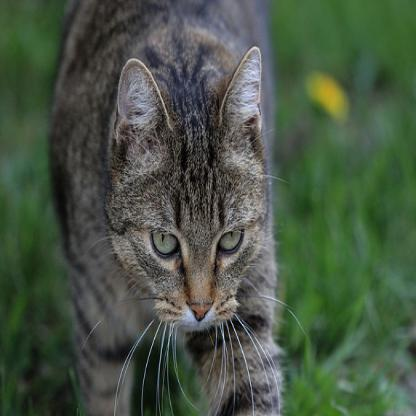cat: (46, 0, 280, 415)
